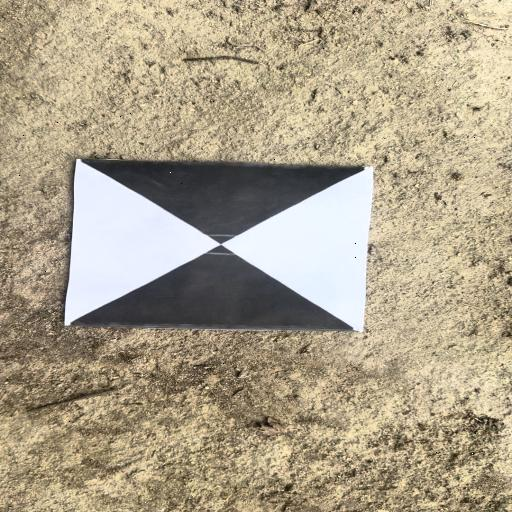target: (64, 159, 375, 332)
